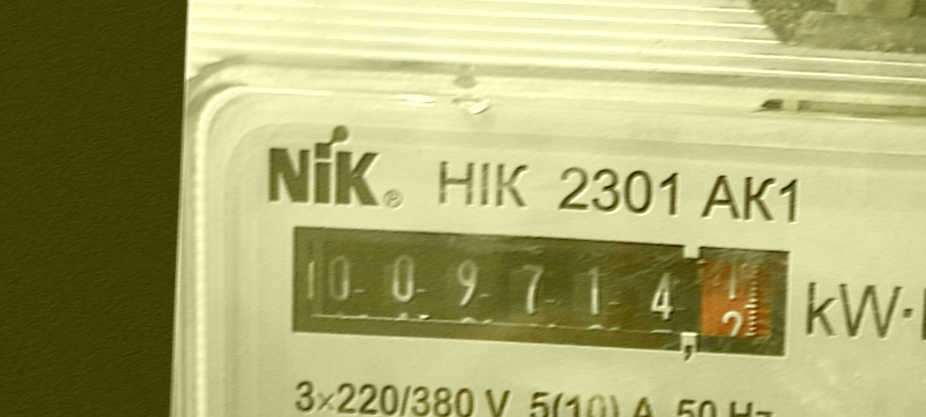0: (324, 250, 355, 305), (389, 250, 417, 304)
1: (582, 261, 607, 317), (724, 258, 741, 302)
2: (720, 307, 745, 338)
4: (647, 268, 677, 323)
7: (518, 261, 546, 316)
9: (451, 255, 481, 309)
screen: (273, 210, 807, 375)
